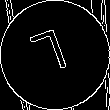L_S: (32, 26, 78, 84)
